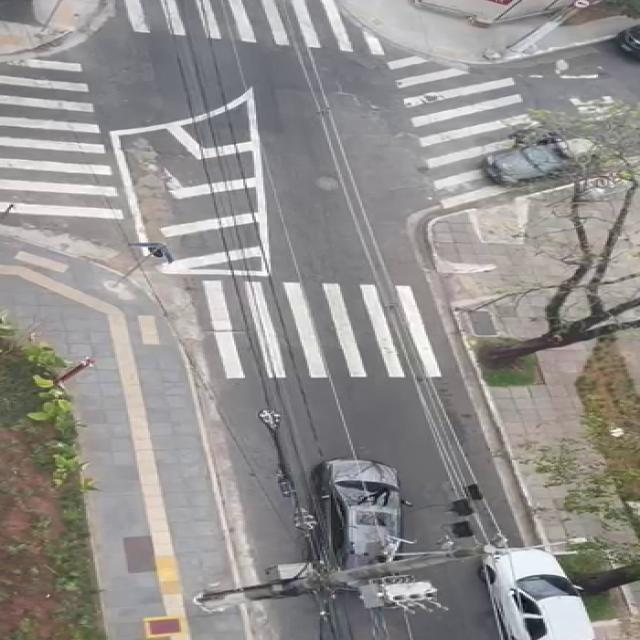car: (306, 452, 396, 598), (467, 544, 597, 640), (478, 134, 612, 195)
